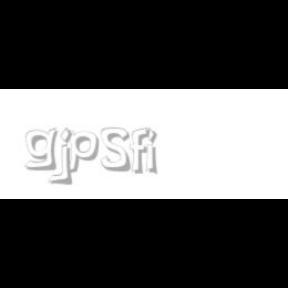S: (101, 128, 132, 172)
f: (130, 128, 154, 174)
g: (24, 128, 62, 171)
i: (145, 128, 161, 176)
j: (58, 128, 86, 186)
p: (66, 128, 102, 174)
